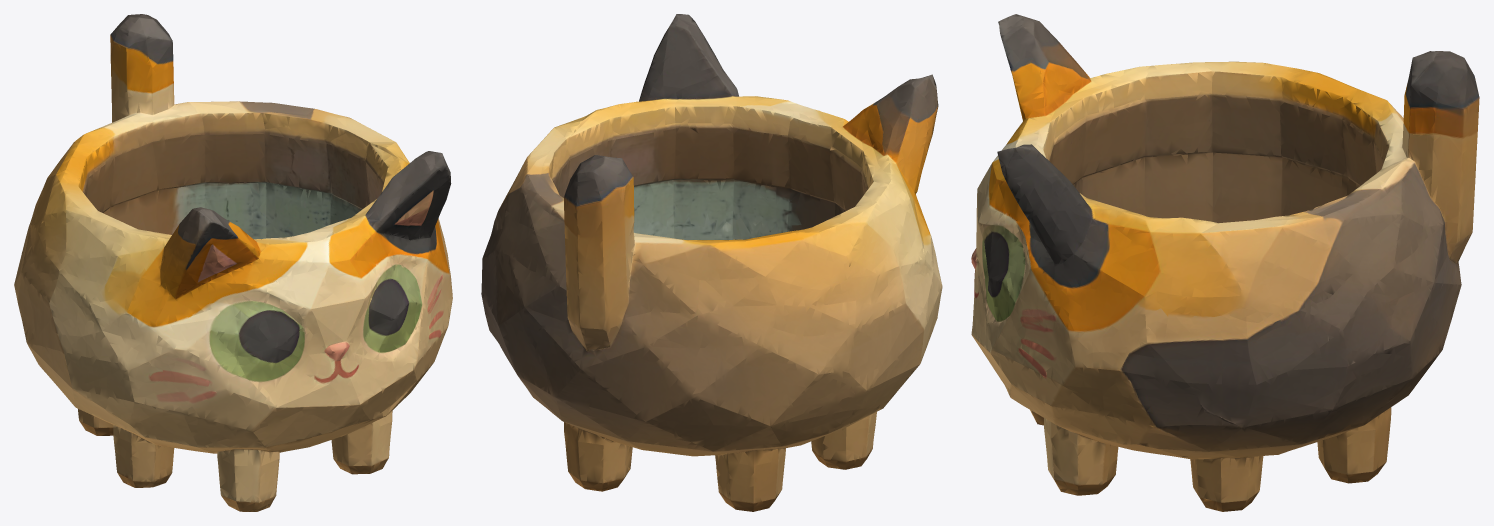
The model's file is cat-pot.glb.
3 renders of one model, left to right at view 1: azimuth 30°, elevation 25°; view 2: azimuth 150°, elevation 25°; view 3: azimuth 270°, elevation 25°, orthographic. The views are drawn at different scales.
Visible parts, largest first — view 1: tripo_node_67e06cd4; view 2: tripo_node_67e06cd4; view 3: tripo_node_67e06cd4.
Boxes of the visible parts, x1,y1,x2,y2 form: tripo_node_67e06cd4: (14,14,452,511); tripo_node_67e06cd4: (481,14,942,511); tripo_node_67e06cd4: (971,14,1479,511).
Size of the model in its own units: 0.784 by 0.7 by 0.8091.
1 material, 1 textured.
